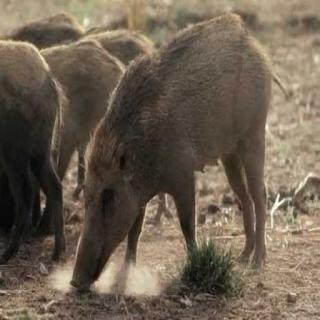Pig: (49, 20, 313, 292)
